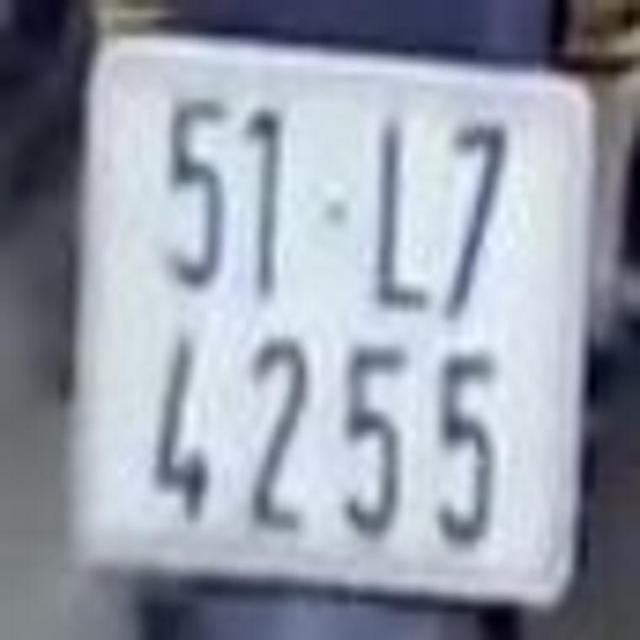1: (237, 104, 287, 295)
2: (251, 330, 308, 536)
4: (152, 337, 215, 521)
5: (436, 346, 499, 541), (346, 341, 404, 534), (170, 100, 221, 286)
7: (451, 118, 504, 324)
L: (380, 121, 434, 312)
